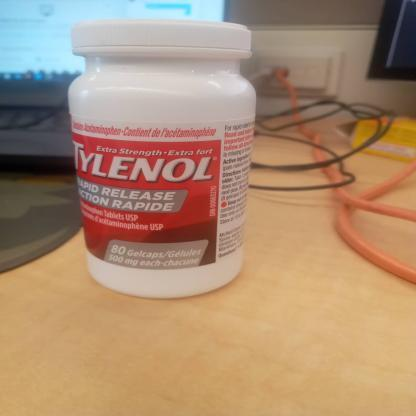jar: (68, 21, 256, 298)
